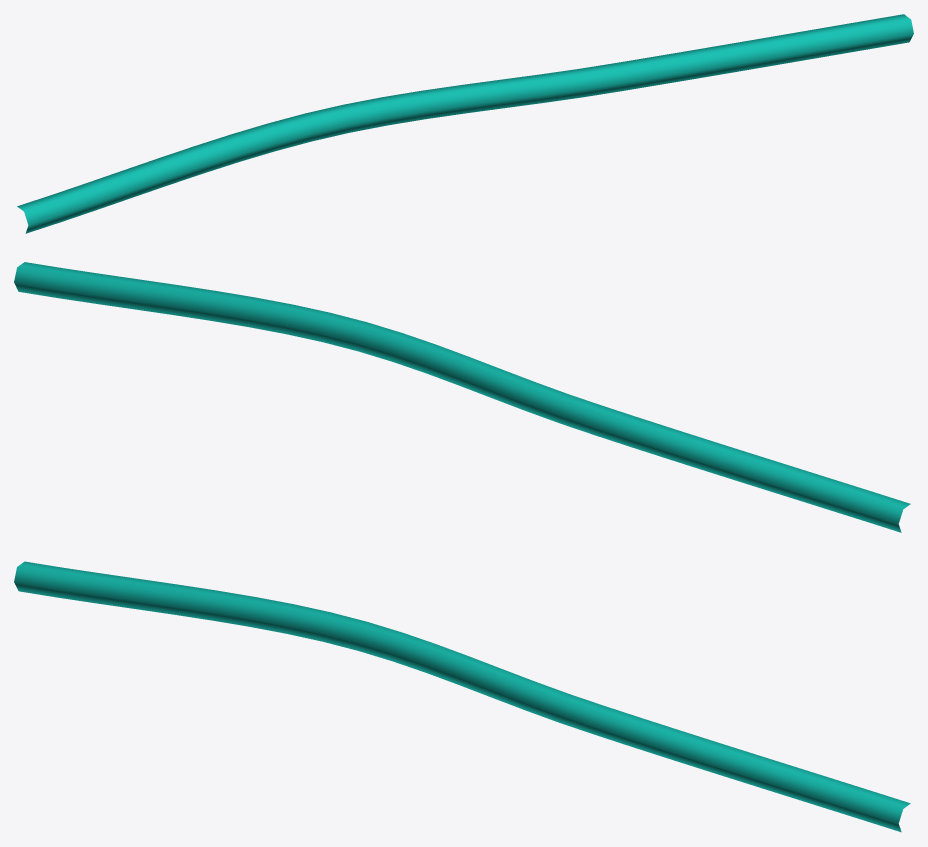
The model's file is fiber-cable.glb.
3 views of the same model, one above another, from view 1: azimuth 30°, elevation 25°; view 2: azimuth 150°, elevation 25°; view 3: azimuth 330°, elevation 25° (orthographic). The views are drawn at different scales.
Size of the model in its own units: 2 by 0.1061 by 0.1743.
